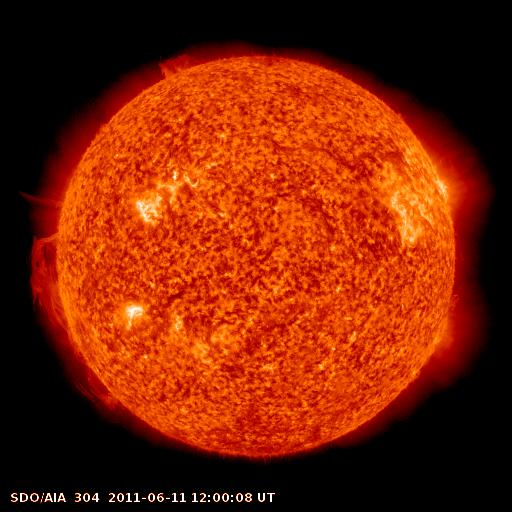prominence: (22, 225, 124, 413), (152, 44, 216, 84), (9, 183, 78, 217)
